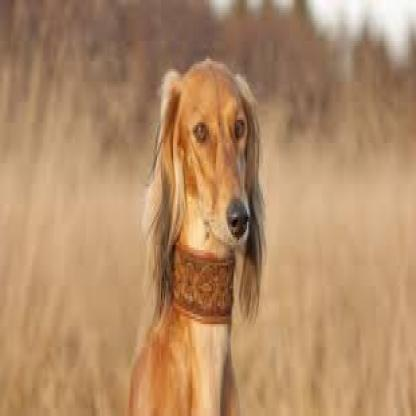saluki: (108, 54, 287, 416)
